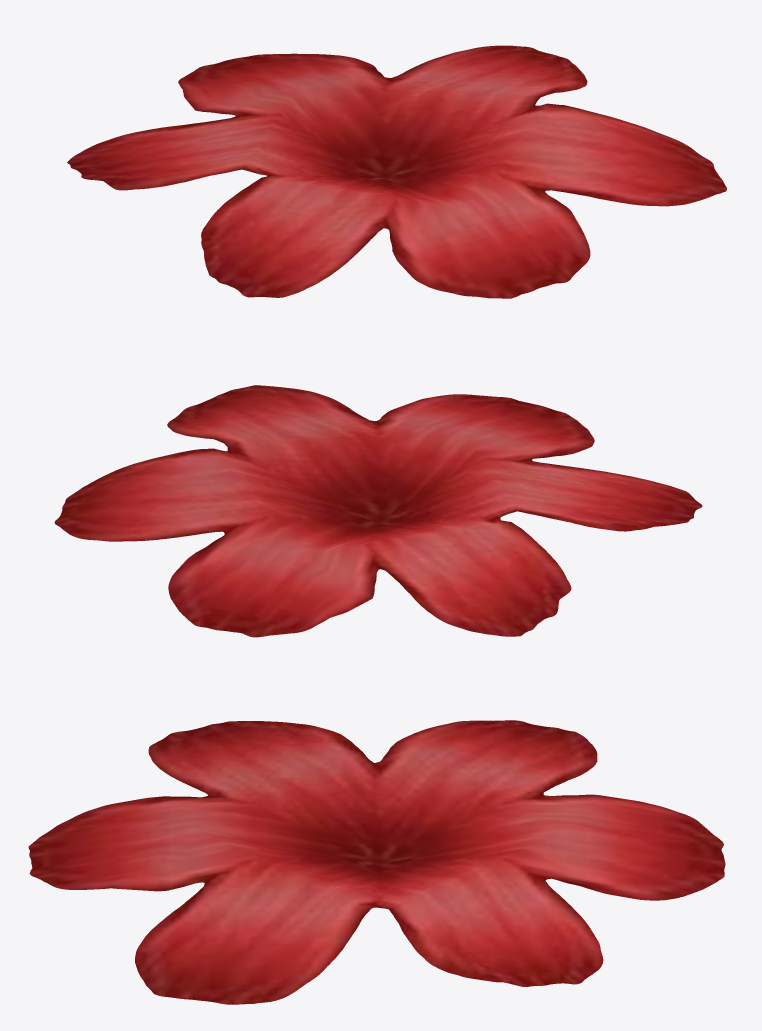
File: flower02.glb
3 renders of one model, top to bottom at view 1: azimuth 30°, elevation 25°; view 2: azimuth 150°, elevation 25°; view 3: azimuth 270°, elevation 25°, orthographic. The views are drawn at different scales.
Parts seen in each view (by area): view 1: Flower02; view 2: Flower02; view 3: Flower02.
Boxes of the visible parts, x1,y1,x2,y2 form: Flower02: (67,45,726,298); Flower02: (54,385,702,637); Flower02: (28,720,725,1004).
Size of the model in its own units: 0.6029 by 0.0375 by 0.6029.
1 material, 1 textured.
